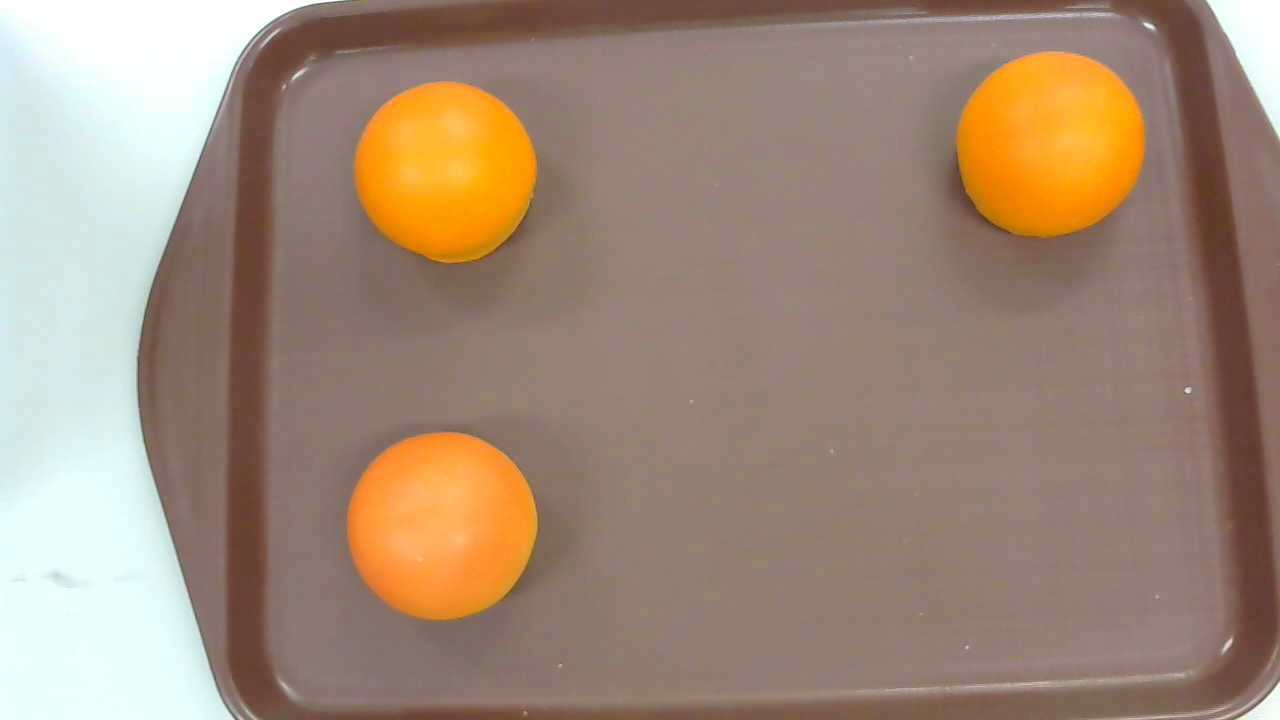bun: (347, 429, 538, 622), (955, 50, 1146, 236), (354, 81, 540, 266)
